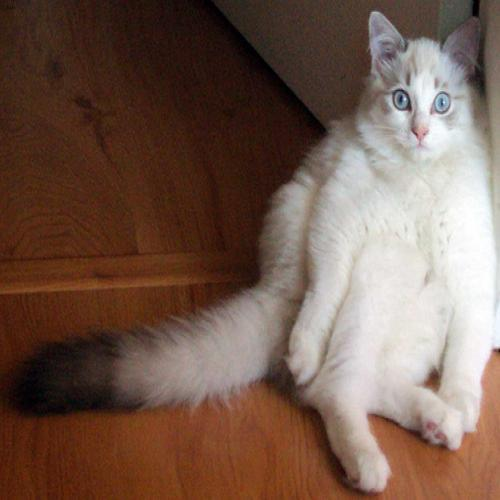ragdoll: (357, 12, 493, 174)
